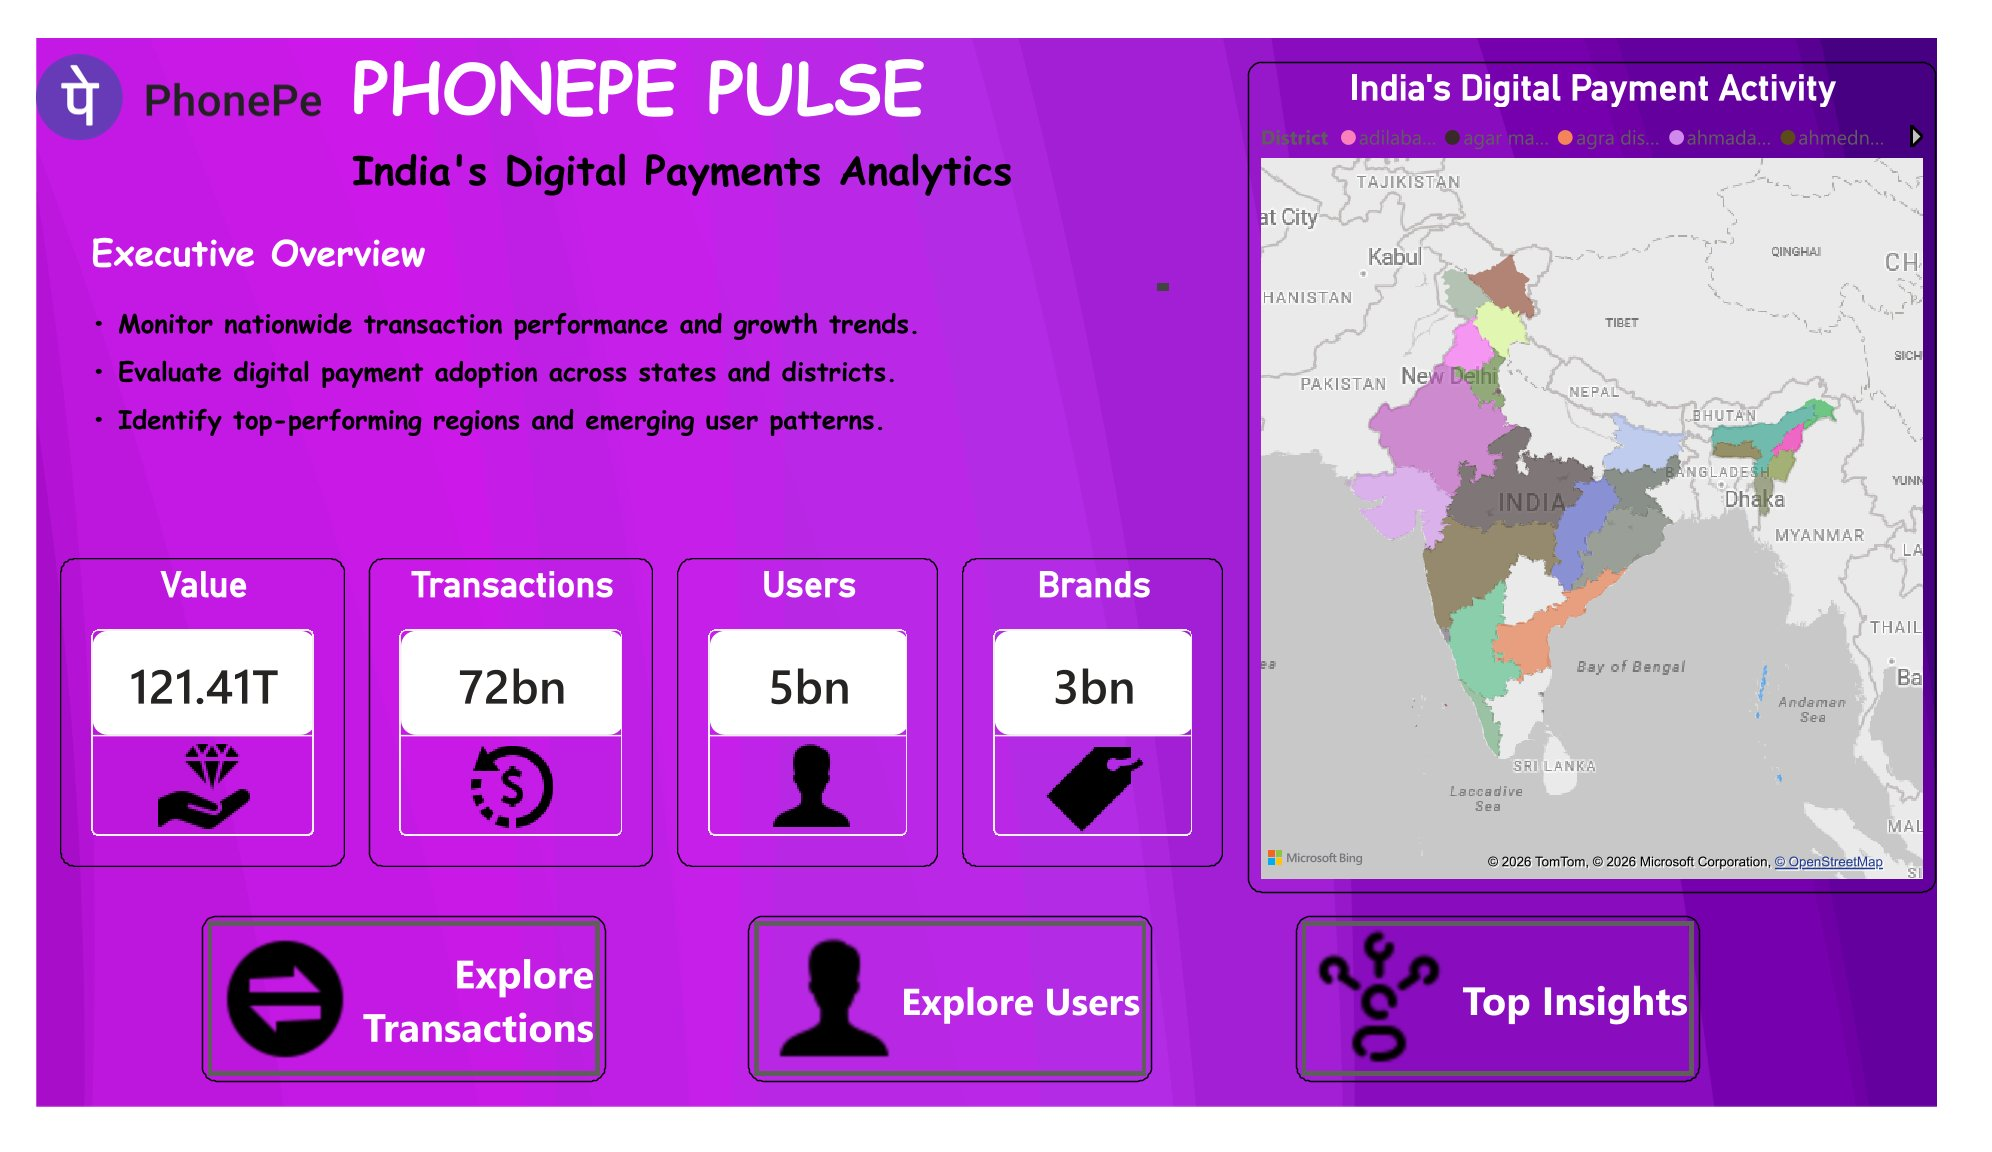

The dashboard page shown, as its layout file describes it:
{"tool":"powerbi","page":{"name":"Home ","canvas":[1280,720],"ordinal":0},"visuals":[{"type":"image","box":[0,0,1280,720],"z":0},{"type":"image","box":[0,0,192,80],"z":1000},{"type":"textbox","title":"PHONEPE PULSE ","box":[208,0,480,112],"z":2000},{"type":"cardVisual","title":"Value","fields":{"Data":["aggregated_transaction.Total Transaction Amount"]},"box":[16,352,192,208],"z":3000},{"type":"cardVisual","title":"Transactions","fields":{"Data":["aggregated_transaction.Total Transaction Count"]},"box":[224,352,192,208],"z":4000},{"type":"cardVisual","title":"Users","fields":{"Data":["map_user.Total Registered Users"]},"box":[432,352,176,208],"z":5000},{"type":"cardVisual","title":"Brands","fields":{"Data":["aggregated_user.Total Brand Users"]},"box":[624,352,176,208],"z":6000},{"type":"filledMap","title":"India''s Digital Payment Activity","fields":{"Category":["map_user.states"],"Series":["map_user.district"]},"box":[816,16,464,560],"z":7000},{"type":"actionButton","box":[112,592,272,112],"z":8000},{"type":"actionButton","box":[480,592,272,112],"z":9000},{"type":"actionButton","box":[848,592,272,112],"z":11000},{"type":"textbox","title":"Executive Overview:","box":[32,144,736,64],"z":12000},{"type":"textbox","box":[32,208,704,32],"z":13000},{"type":"textbox","box":[32,176,704,32],"z":14000},{"type":"textbox","box":[32,240,704,32],"z":15000}]}

Visuals, with their boxes in screenshot pixels (x1, y1, x2, y2), scaled from the page's 1280x720 canvas onto the 1992x1152 screenshot:
image: bbox=[0, 0, 1991, 1151]
image: bbox=[0, 0, 299, 128]
"PHONEPE PULSE " textbox: bbox=[324, 0, 1071, 179]
"Value" cardVisual: bbox=[25, 563, 324, 896]
"Transactions" cardVisual: bbox=[349, 563, 647, 896]
"Users" cardVisual: bbox=[672, 563, 946, 896]
"Brands" cardVisual: bbox=[971, 563, 1245, 896]
"India''s Digital Payment Activity" filledMap: bbox=[1270, 26, 1991, 922]
actionButton: bbox=[174, 947, 598, 1126]
actionButton: bbox=[747, 947, 1170, 1126]
actionButton: bbox=[1320, 947, 1743, 1126]
"Executive Overview:" textbox: bbox=[50, 230, 1195, 333]
textbox: bbox=[50, 333, 1145, 384]
textbox: bbox=[50, 282, 1145, 333]
textbox: bbox=[50, 384, 1145, 435]
